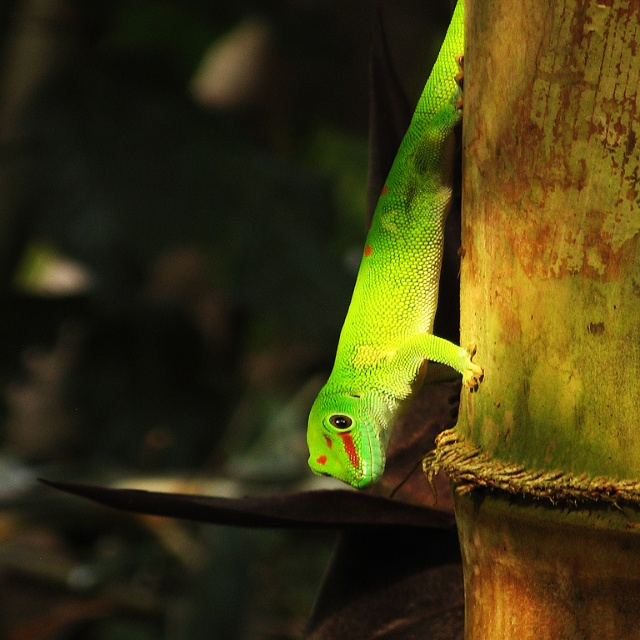Lizard: (269, 44, 497, 515)
